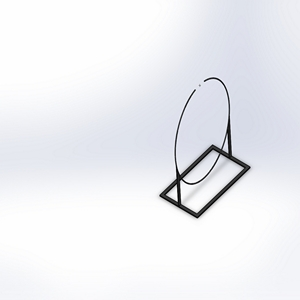circle: (158, 76, 252, 218)
